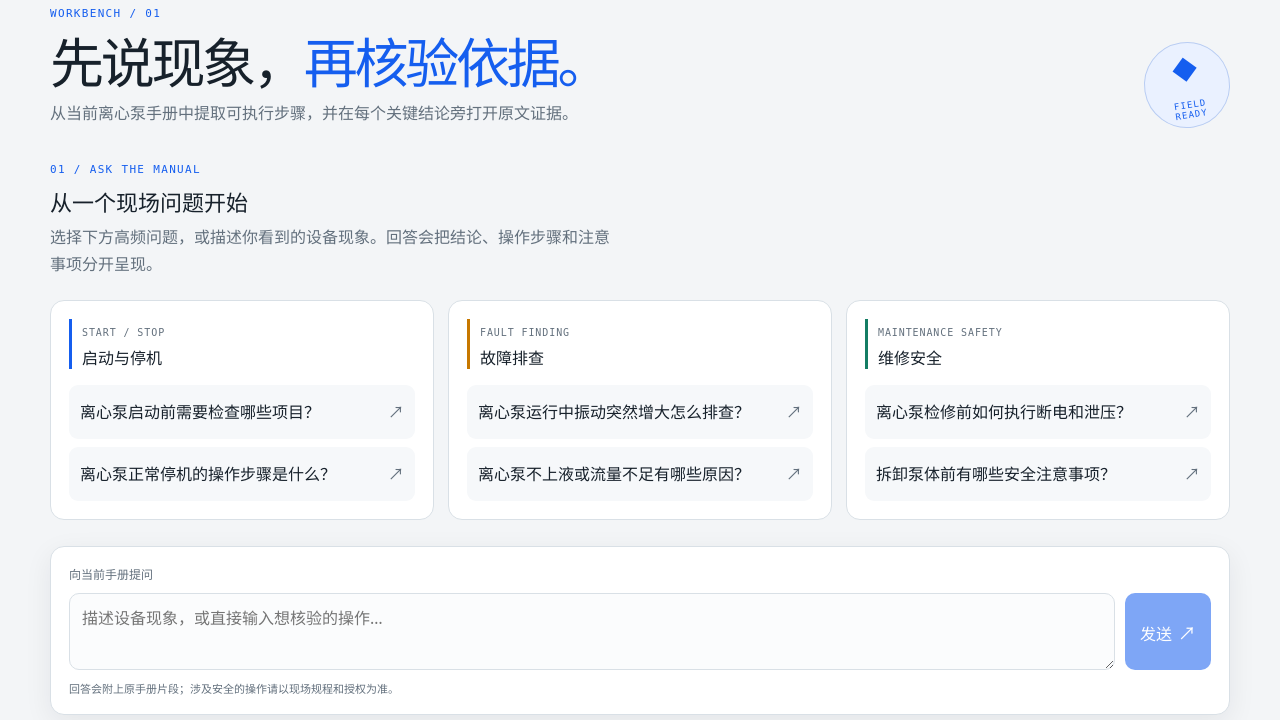
Test: chat workbench › renders insufficient evidence and preserves the retry question
The image size is (1280, 720).
Type "特殊问题" into the text box labelled "向当前手册提问" at (592, 632), box x1=69 y1=593 x2=1115 y2=670
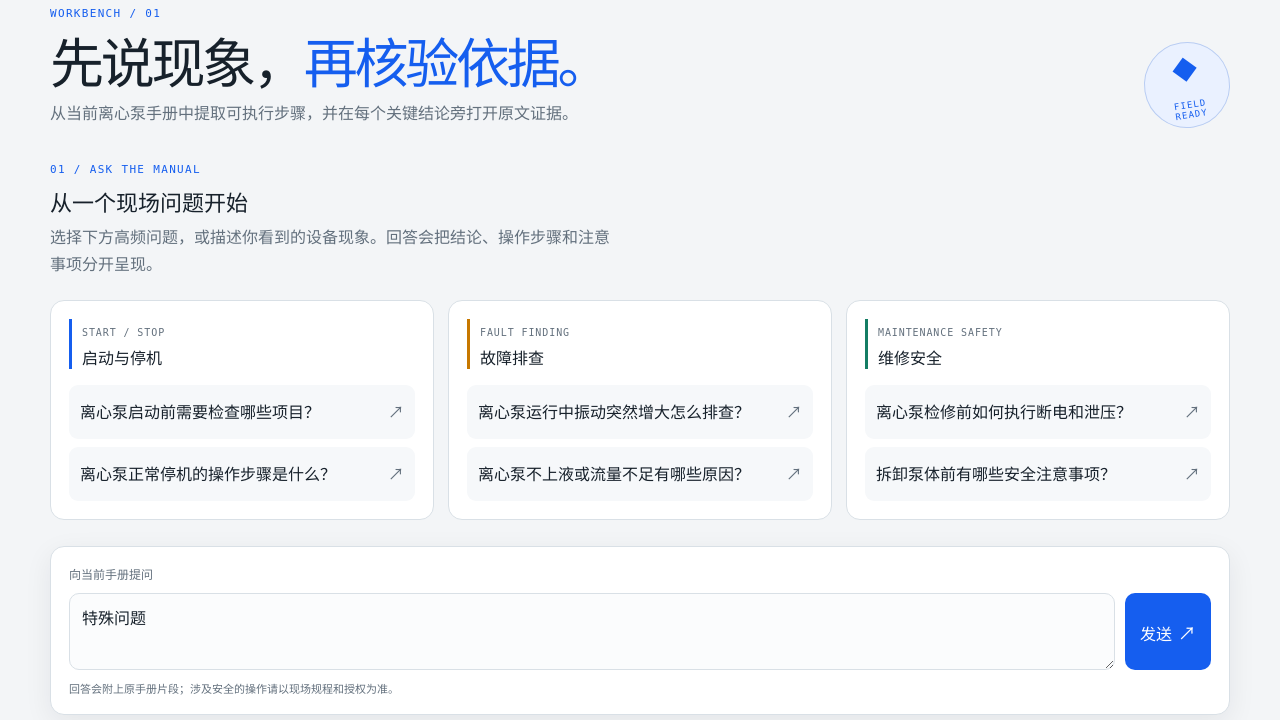
Submit the form, box x1=50 y1=546 x2=1230 y2=715
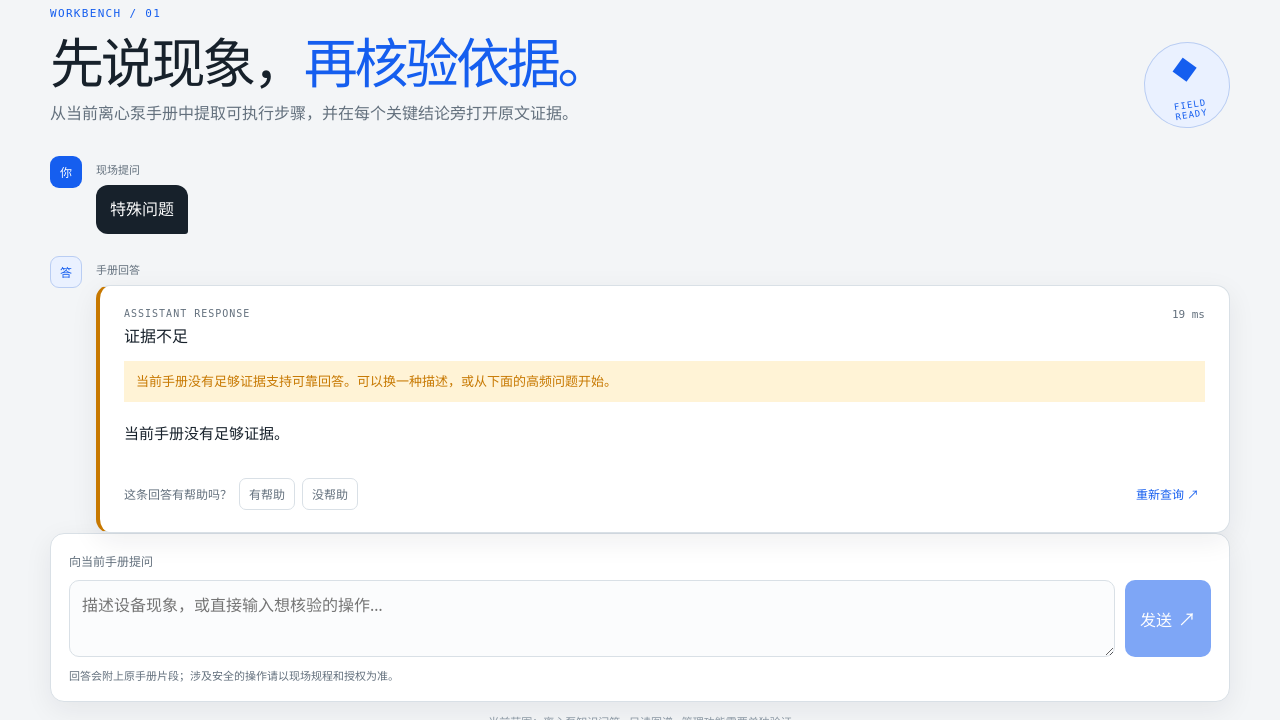
expect the text "证据不足" is shown: met, box x1=124 y1=325 x2=188 y2=347
expect the text "重新查询" is shown: met, box x1=1130 y1=478 x2=1205 y2=510
expect the text "特殊问题" is shown: met, box x1=96 y1=185 x2=188 y2=234
